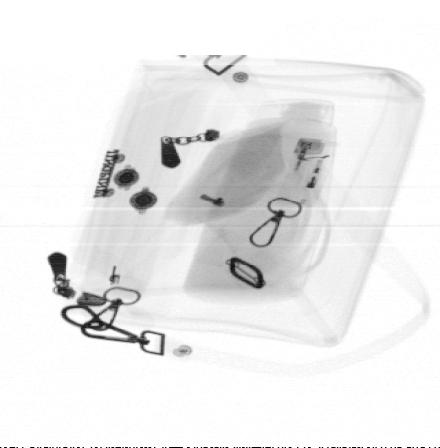Lighter: (276, 138, 336, 207)
